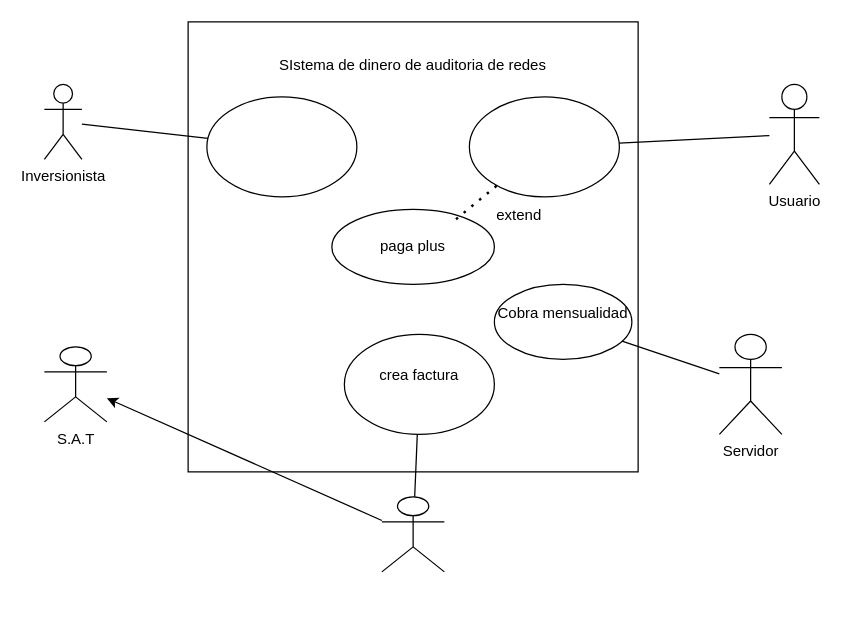
The diagram is 841 pixels wide and 620 high, and some of its shapes have lost their labels. The box of each missing label's shape, as (x1, y1, x2, y2) in pixels:
Contador: (381, 496, 444, 572)
invierte dinero: (206, 96, 357, 197)
Paga subscripcion: (468, 96, 619, 197)
